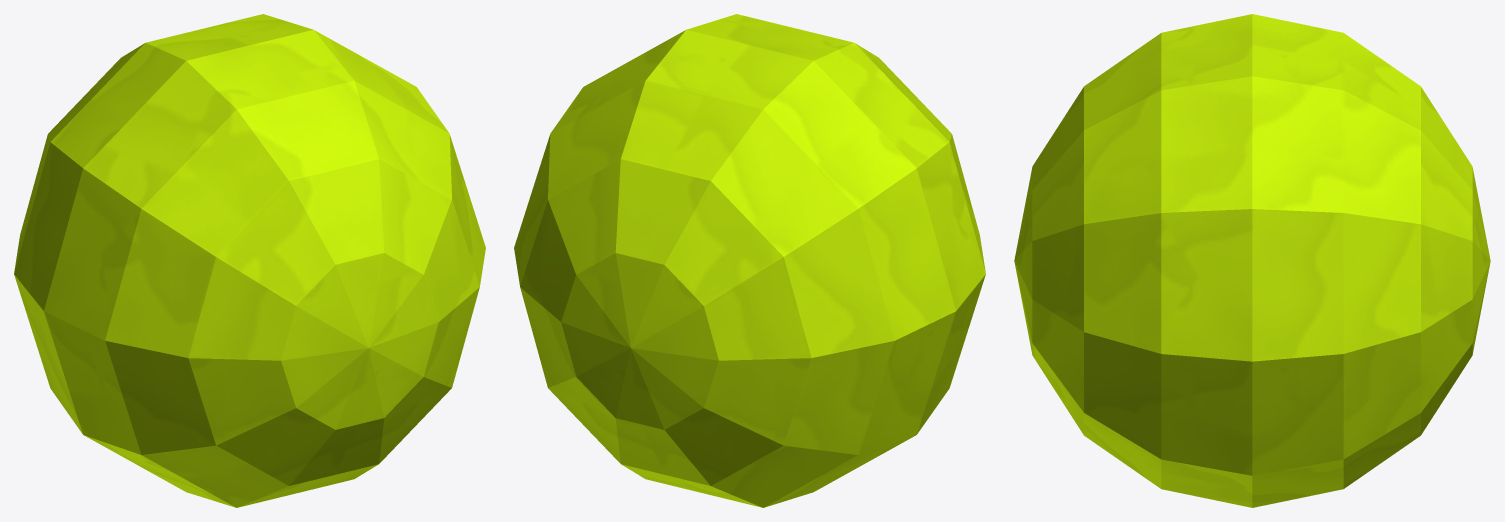
File: ball.obj
3 views of the same model, side by side, from view 1: azimuth 30°, elevation 25°; view 2: azimuth 150°, elevation 25°; view 3: azimuth 270°, elevation 25° (orthographic).
Visible parts, largest first — view 1: Ball_Sphere; view 2: Ball_Sphere; view 3: Ball_Sphere.
Boxes of the visible parts, x1,y1,x2,y2 form: Ball_Sphere: [14, 14, 485, 507]; Ball_Sphere: [514, 14, 985, 507]; Ball_Sphere: [1014, 14, 1490, 507].
Bounding box in the file's own units: 0.5 × 0.5 × 0.5.
Materials: 1 (1 with a texture image).
